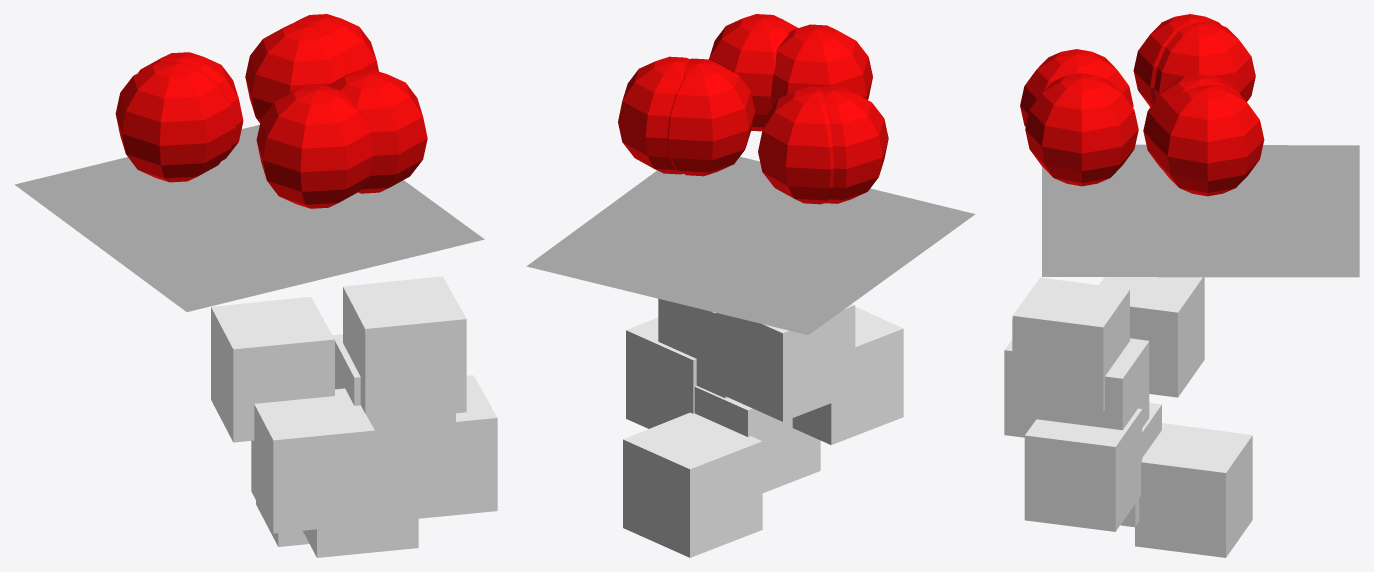
File: modified_ground.obj
3 views of the same model, side by side, from view 1: azimuth 30°, elevation 25°; view 2: azimuth 150°, elevation 25°; view 3: azimuth 270°, elevation 25° (orthographic). The views are drawn at different scales.
Parts seen in each view (by area): view 1: floor, cube1, cube4, cube2, sphere3, sphere1, cube5, sphere5, sphere6, cube6, cube3, sphere2 (+1 smaller); view 2: floor, cube7, cube2, sphere6, cube4, sphere4, cube5, sphere3, sphere1, cube6, sphere2, sphere5 (+1 smaller); view 3: floor, cube7, cube1, cube5, sphere5, sphere2, cube2, sphere4, cube3, sphere3, sphere1, sphere6 (+2 smaller).
Part boxes in pixels (left/top/right/bottom): floor: left=15, top=124, right=484, bottom=311; cube1: left=343, top=276, right=466, bottom=421; cube4: left=251, top=388, right=374, bottom=533; cube2: left=211, top=296, right=334, bottom=442; sphere3: left=256, top=85, right=372, bottom=208; sphere1: left=115, top=61, right=235, bottom=182; cube5: left=418, top=375, right=497, bottom=518; sphere5: left=327, top=70, right=427, bottom=193; sphere6: left=245, top=22, right=347, bottom=122; cube6: left=303, top=464, right=418, bottom=557; cube3: left=332, top=334, right=455, bottom=468; sphere2: left=294, top=14, right=378, bottom=74; floor: left=526, top=156, right=975, bottom=335; cube7: left=623, top=412, right=762, bottom=557; cube2: left=715, top=304, right=855, bottom=421; sphere6: left=667, top=58, right=754, bottom=176; cube4: left=792, top=307, right=903, bottom=444; sphere4: left=758, top=86, right=833, bottom=204; cube5: left=626, top=317, right=696, bottom=428; sphere3: left=771, top=24, right=872, bottom=106; sphere1: left=822, top=86, right=888, bottom=203; cube6: left=694, top=385, right=820, bottom=492; sphere2: left=618, top=56, right=689, bottom=174; sphere5: left=709, top=14, right=798, bottom=131; floor: left=1042, top=144, right=1359, bottom=277; cube7: left=1135, top=423, right=1252, bottom=557; cube1: left=1012, top=277, right=1129, bottom=412; cube5: left=1024, top=408, right=1142, bottom=531; sphere5: left=1025, top=73, right=1138, bottom=186; sphere2: left=1150, top=85, right=1264, bottom=196; cube2: left=1099, top=277, right=1204, bottom=397; sphere4: left=1154, top=21, right=1255, bottom=101; cube3: left=1032, top=338, right=1149, bottom=430; sphere3: left=1020, top=49, right=1133, bottom=126; sphere1: left=1133, top=14, right=1220, bottom=106; sphere6: left=1143, top=74, right=1243, bottom=169.
Size of the model in its own units: 6.06 by 8.74 by 6.26.
